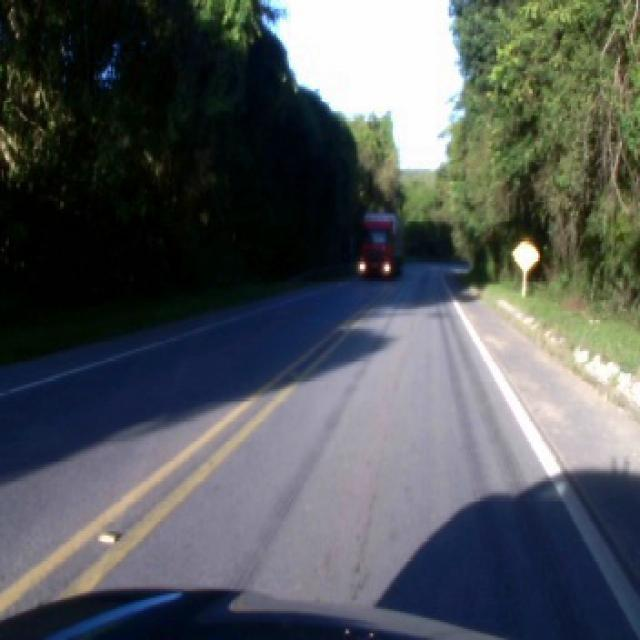Poth-hole: (94, 526, 122, 542)
